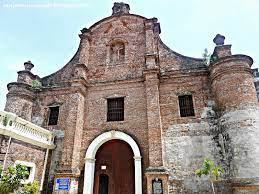santa_maria_church_santa_maria_ilocos_sur: (5, 1, 259, 194)
unfinished_paint: (161, 104, 259, 189)
